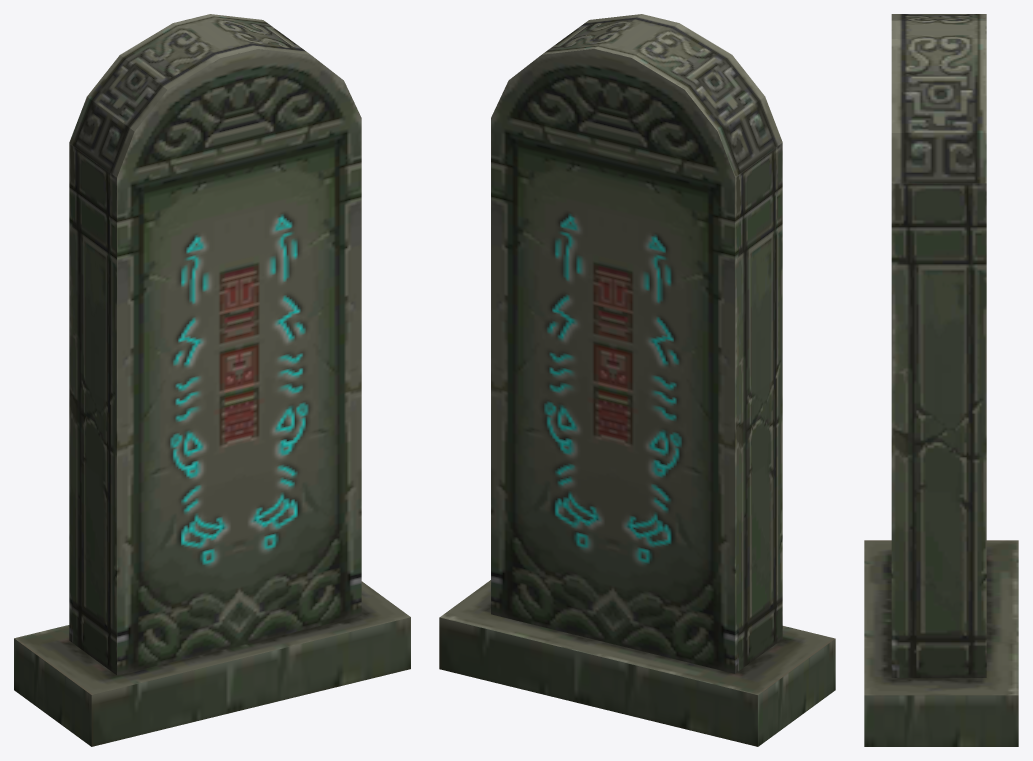
File: Yland3_jz_09 Yland3.FBX
The picture shows the model from 3 angles, left to right: view 1: azimuth 30°, elevation 25°; view 2: azimuth 150°, elevation 25°; view 3: azimuth 270°, elevation 25°; orthographic projection.
Parts seen in each view (by area): view 1: Yland3_jz_09 Yland3; view 2: Yland3_jz_09 Yland3; view 3: Yland3_jz_09 Yland3.
Part boxes in pixels (x1,y1,x2,y2): Yland3_jz_09 Yland3: [14, 14, 410, 746]; Yland3_jz_09 Yland3: [439, 14, 835, 746]; Yland3_jz_09 Yland3: [864, 14, 1018, 746].
Size of the model in its own units: 2 by 3.85 by 0.8414.
